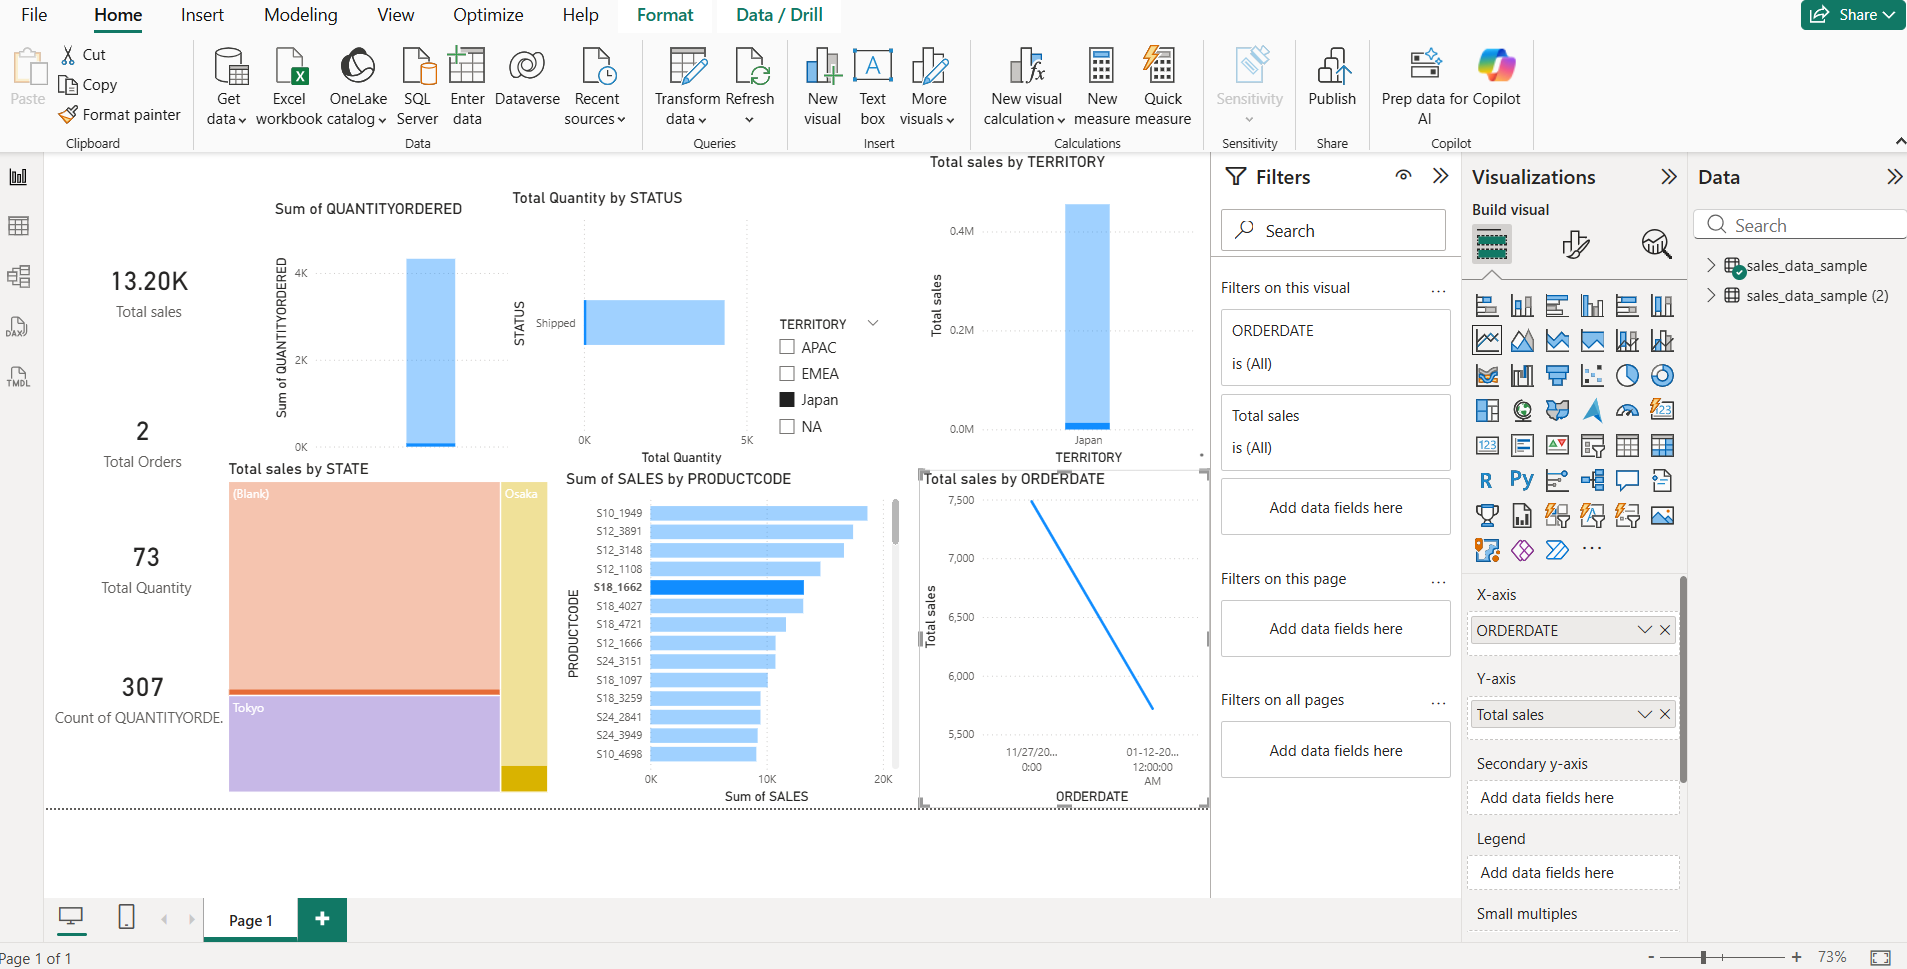

This screenshot's page, from the dashboard's own definition file:
{"tool":"powerbi","page":{"name":"Page 1","canvas":[1280,720],"ordinal":0},"visuals":[{"type":"card","fields":{"Values":["sales_data_sample.Total sales"]},"box":[15.1,16.5,200.3,269],"z":0},{"type":"card","fields":{"Values":["sales_data_sample.Total Orders"]},"box":[0,219.6,197.6,216.8],"z":1000},{"type":"clusteredColumnChart","fields":{"Y":["Sum(sales_data_sample.QUANTITYORDERED)"]},"box":[248.4,52.1,310.1,285.4],"z":2000},{"type":"card","fields":{"Values":["sales_data_sample.Total Orders"]},"box":[9.6,229.2,197.6,172.9],"z":3000},{"type":"card","fields":{"Values":["sales_data_sample.Total Quantity"]},"box":[9.6,402.1,205.8,102.9],"z":4000},{"type":"card","fields":{"Values":["CountNonNull(sales_data_sample (2).QUANTITYORDERED)"]},"box":[5.5,521.4,205.8,149.6],"z":5000},{"type":"clusteredBarChart","fields":{"Category":["sales_data_sample (2).STATUS"],"Y":["sales_data_sample.Total Quantity"]},"box":[508.6,40,310,308.6],"z":6000},{"type":"lineChart","fields":{"Y":["sales_data_sample.Total sales"],"Category":["sales_data_sample.ORDERDATE"]},"box":[960.6,348.5,319.7,371.9],"z":7000},{"type":"clusteredBarChart","fields":{"Category":["sales_data_sample.PRODUCTCODE"],"Y":["Sum(sales_data_sample.SALES)"]},"box":[568.1,348.5,376,371.9],"z":8000},{"type":"treemap","fields":{"Values":["sales_data_sample.Total sales"],"Group":["sales_data_sample.STATE"]},"box":[197.6,337.6,360.9,370.5],"z":9000},{"type":"columnChart","fields":{"Category":["sales_data_sample.TERRITORY"],"Y":["sales_data_sample.Total sales"]},"box":[967.4,0,300.5,348.5],"z":10000},{"type":"slicer","fields":{"Values":["sales_data_sample.TERRITORY"]},"box":[794.5,175.6,134.5,152.3],"z":11000}]}

Visuals, with their boxes on the page's 1280x720 design canvas (x1, y1, x2, y2). These are canvas units, not pixel positions in the 1907x969 screenshot, which may show the page scaled, cropped or inside an application window:
card - sales_data_sample.Total sales: select_region(15, 16, 215, 286)
card - sales_data_sample.Total Orders: select_region(0, 220, 198, 436)
clusteredColumnChart - Sum(sales_data_sample.QUANTITYORDERED): select_region(248, 52, 558, 338)
card - sales_data_sample.Total Orders: select_region(10, 229, 207, 402)
card - sales_data_sample.Total Quantity: select_region(10, 402, 215, 505)
card - CountNonNull(sales_data_sample (2).QUANTITYORDERED): select_region(6, 521, 211, 671)
clusteredBarChart - sales_data_sample (2).STATUS x sales_data_sample.Total Quantity: select_region(509, 40, 819, 349)
lineChart - sales_data_sample.Total sales x sales_data_sample.ORDERDATE: select_region(961, 348, 1280, 720)
clusteredBarChart - sales_data_sample.PRODUCTCODE x Sum(sales_data_sample.SALES): select_region(568, 348, 944, 720)
treemap - sales_data_sample.Total sales x sales_data_sample.STATE: select_region(198, 338, 558, 708)
columnChart - sales_data_sample.TERRITORY x sales_data_sample.Total sales: select_region(967, 0, 1268, 348)
slicer - sales_data_sample.TERRITORY: select_region(794, 176, 929, 328)
